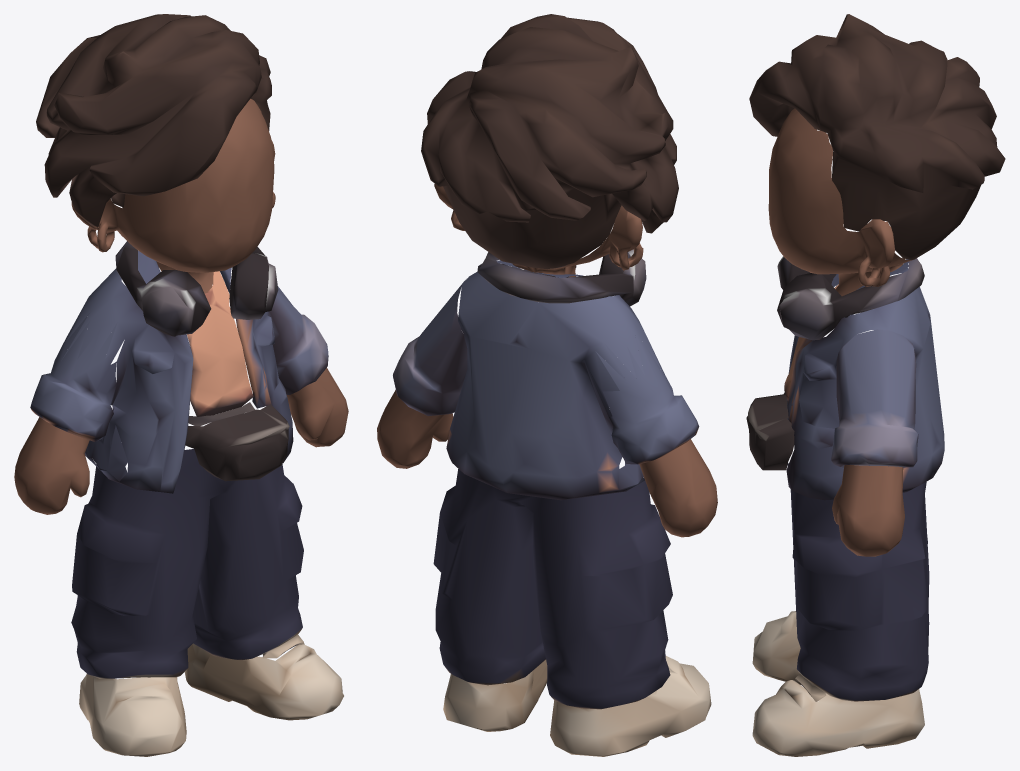
3 views of the same model, side by side, from view 1: azimuth 30°, elevation 25°; view 2: azimuth 150°, elevation 25°; view 3: azimuth 270°, elevation 25° (orthographic). The views are drawn at different scales.
Parts seen in each view (by area): view 1: bottom, hair, top, head, shoe_l, sleeve_r, shoe_r, acc_head_beard, hand_r, sleeve_l, hand_l, acc_head_0; view 2: hair, bottom, top, shoe_r, sleeve_r, sleeve_l, hand_r, acc_head_beard, shoe_l, hand_l, head; view 3: hair, bottom, top, head, sleeve_l, shoe_l, acc_head_beard, hand_l, shoe_r.
Boxes of the visible parts, x1,y1,x2,y2 form: bottom: (71, 449, 304, 678); hair: (36, 14, 271, 226); top: (61, 268, 293, 493); head: (71, 98, 275, 293); shoe_l: (184, 643, 343, 720); sleeve_r: (30, 313, 127, 481); shoe_r: (79, 673, 186, 756); acc_head_beard: (115, 241, 278, 336); hand_r: (14, 417, 89, 514); sleeve_l: (268, 286, 328, 394); hand_l: (286, 367, 348, 447); acc_head_0: (138, 251, 231, 293); hair: (421, 14, 678, 269); bottom: (433, 469, 672, 709); top: (446, 272, 662, 500); shoe_r: (550, 656, 711, 756); sleeve_r: (595, 336, 699, 489); sleeve_l: (393, 281, 467, 416); hand_r: (639, 439, 717, 537); acc_head_beard: (477, 249, 646, 306); shoe_l: (443, 660, 547, 731); hand_l: (377, 390, 453, 468); head: (434, 184, 643, 277); hair: (749, 14, 1005, 259); bottom: (787, 463, 929, 701); top: (746, 284, 944, 500); head: (768, 108, 912, 296); sleeve_l: (831, 329, 918, 467); shoe_l: (752, 680, 924, 756); acc_head_beard: (777, 256, 924, 340); hand_l: (832, 465, 904, 556); shoe_r: (752, 611, 801, 685).
Size of the model in its own units: 0.5123 by 1.03 by 0.3639.
